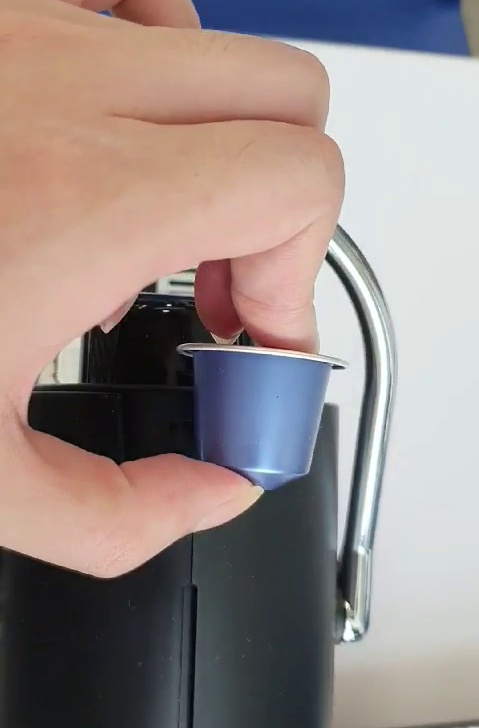capsule_7: (172, 335, 354, 497)
